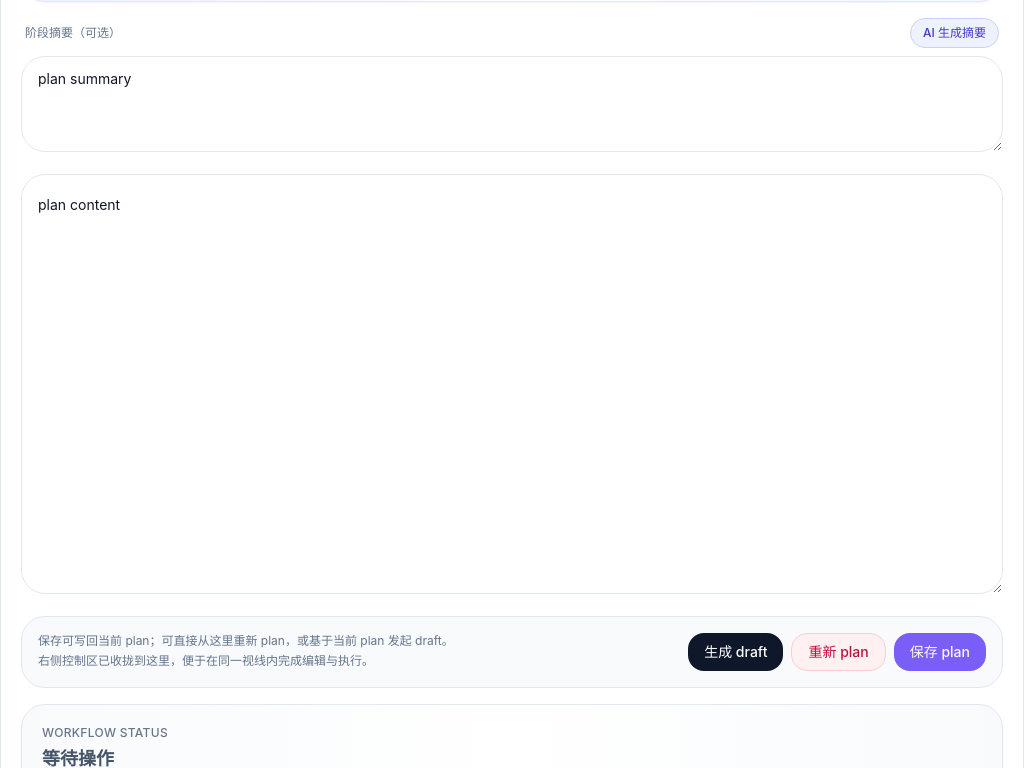
Test case: ChapterWorkbenchPage › generates stage summary from current editor content without auto-saving
(page scrolled)
Expected: the button "AI 生成摘要" is enabled, top-left (910, 18), bottom-right (999, 48)
Replace the text in the 2nd text box with placeholder "阶段正文内容" with "这是更新后的正文内容，用于生成阶段摘要。" at (512, 384), box top-left (21, 174), bottom-right (1003, 594)
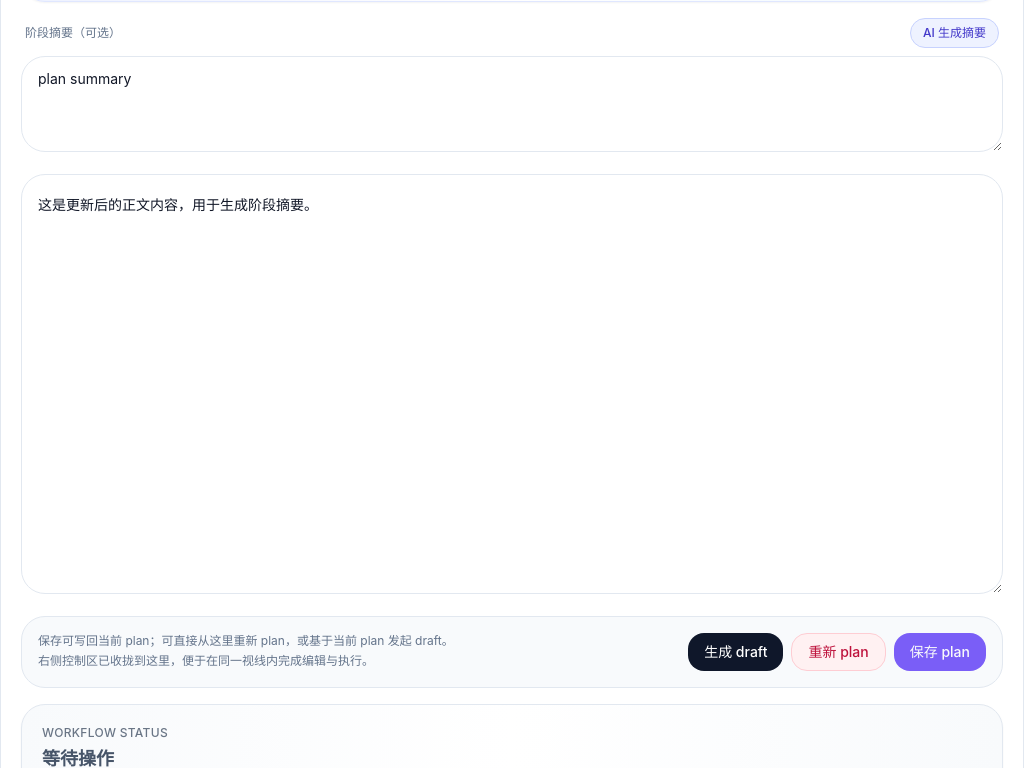
Click the button "AI 生成摘要" at (954, 33), box top-left (910, 18), bottom-right (999, 48)
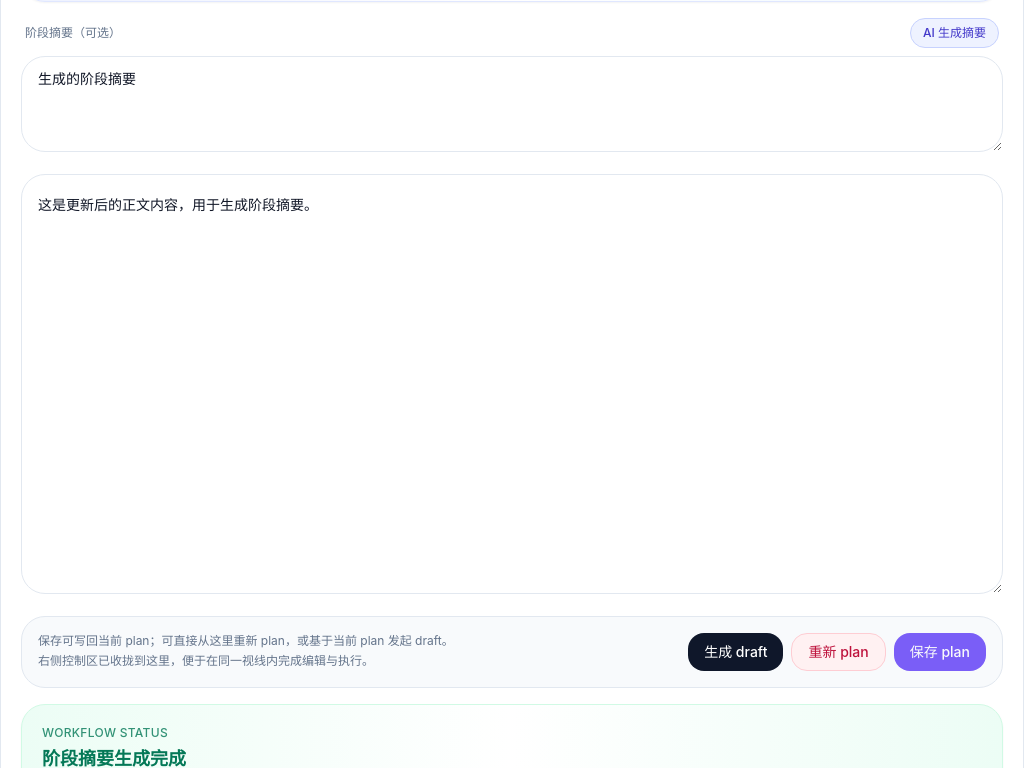
Expected: the text box with placeholder "阶段摘要（可选）" below "阶段摘要（可选）" holds "生成的阶段摘要", top-left (21, 56), bottom-right (1003, 152)
